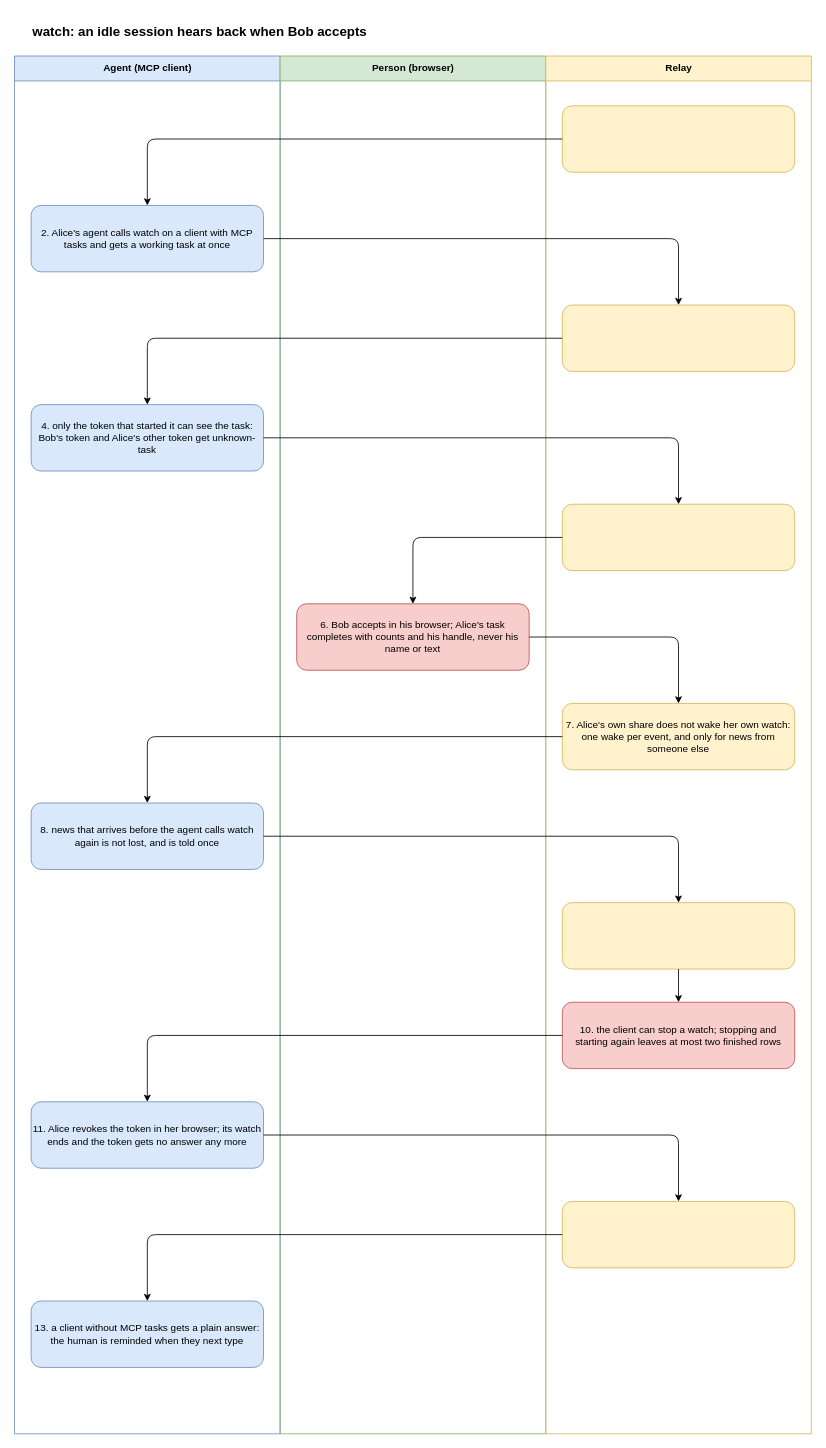
Some shapes in this 826 by 1448 pixel diagram are drawn without their labels. The centre of each missing label's shape, as x and y in pixels:
"1. the relay lists the MCP tasks extension in server/discover" goes at [678,138].
"12. at most five sessions of one person listen at a time" goes at [678,1234].
"3. tasks/get says working while nothing happens" goes at [678,337].
"5. the task survives a relay restart" goes at [678,537].
"9. suggests watch only to a client that can run it" goes at [678,935].
